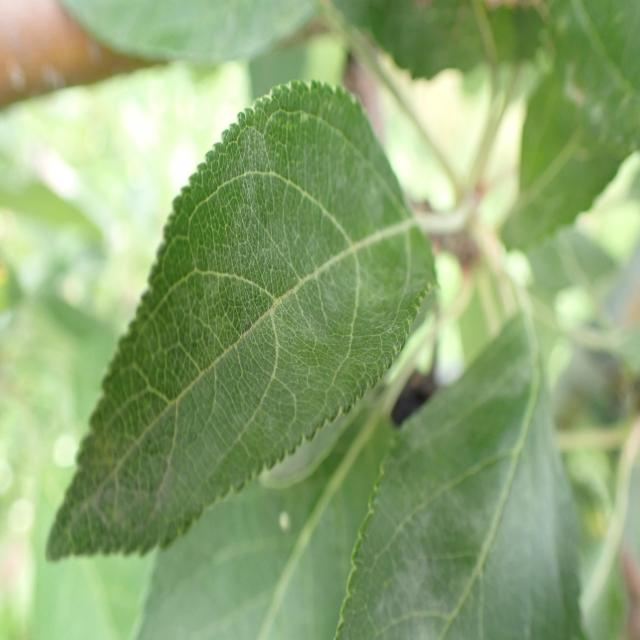Powdery_mildew: (50, 60, 420, 552), (368, 314, 594, 640)
